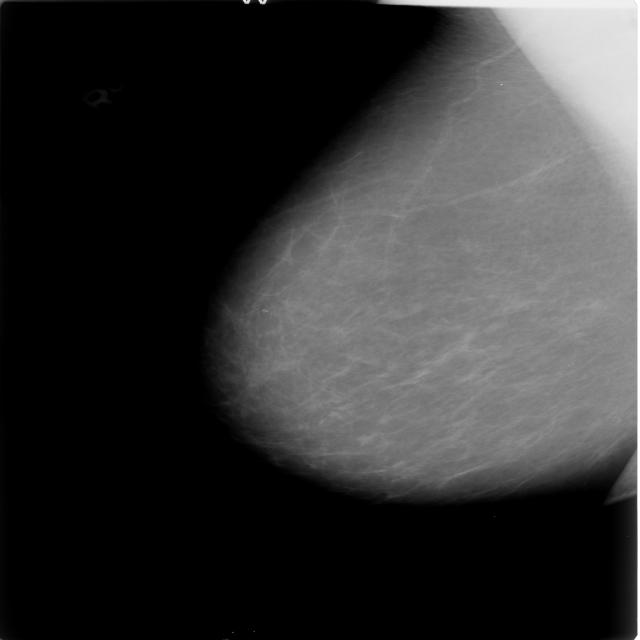normal: (202, 0, 640, 493)
